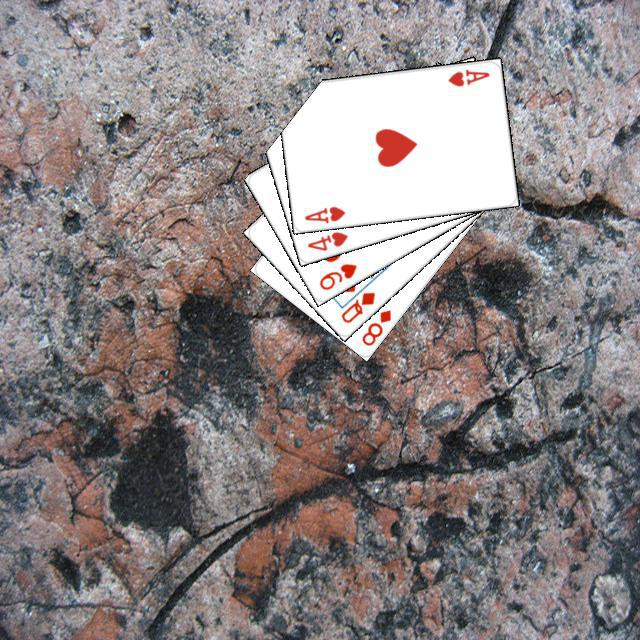4h: (302, 227, 349, 253)
8d: (357, 304, 393, 348)
9h: (314, 258, 359, 292)
Ah: (299, 201, 347, 225), (443, 64, 491, 88)
Qd: (336, 287, 377, 325)
